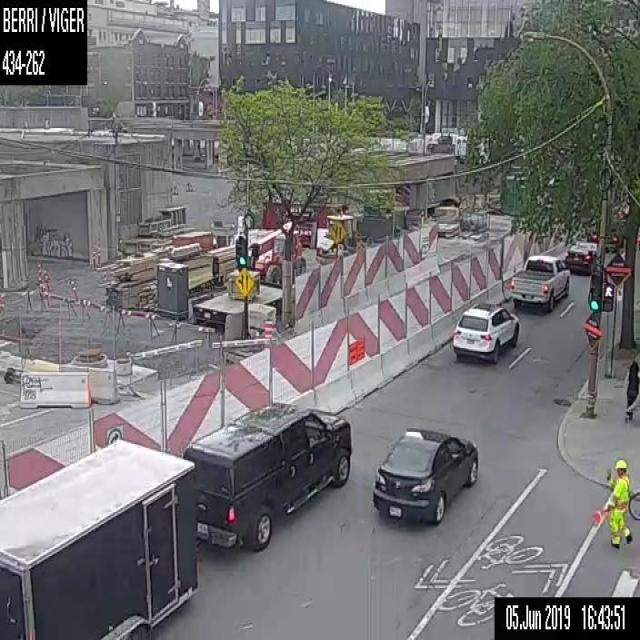construction: (0, 107, 568, 501), (263, 318, 274, 347)
pedestrian: (603, 459, 632, 548), (624, 361, 639, 420)
vehicle: (0, 400, 352, 639), (371, 427, 478, 524), (451, 297, 519, 360), (507, 250, 570, 310), (564, 240, 597, 272), (0, 634, 33, 638)
